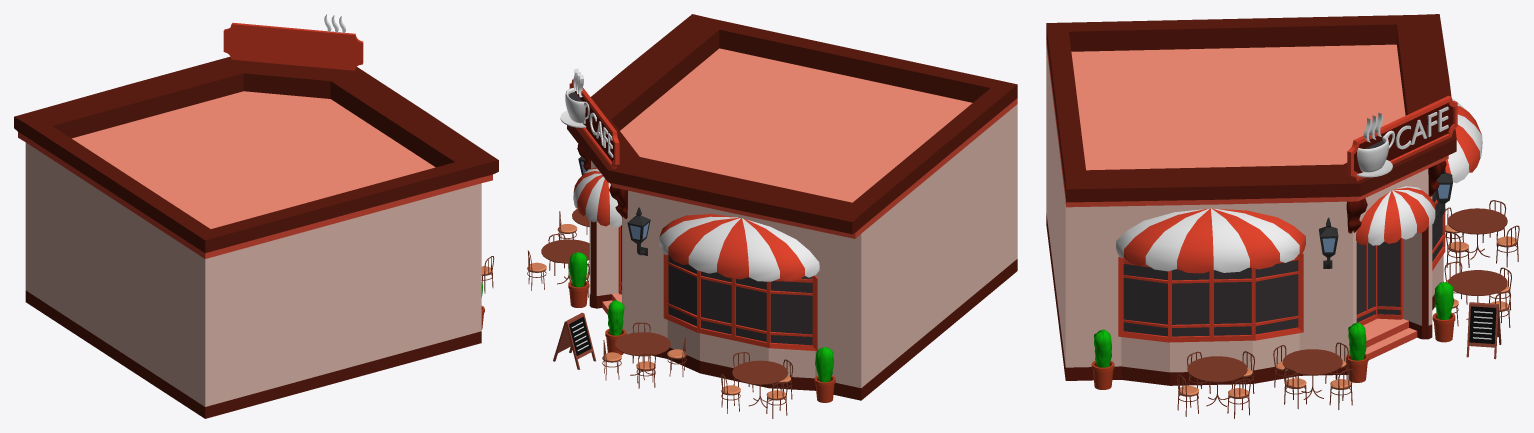
File: Cafeteria.fbx
3 renders of one model, left to right at view 1: azimuth 30°, elevation 25°; view 2: azimuth 150°, elevation 25°; view 3: azimuth 270°, elevation 25°, orthographic. The views are drawn at different scales.
Parts seen in each view (by area): view 1: CafeBuilding; view 2: CafeBuilding; view 3: CafeBuilding.
Boxes of the visible parts, left/top/right/bottom form: CafeBuilding: left=14, top=14, right=498, bottom=418; CafeBuilding: left=527, top=14, right=1017, bottom=418; CafeBuilding: left=1046, top=14, right=1519, bottom=418.
Size of the model in its own units: 520 by 308 by 510.
1 material, 1 textured.
